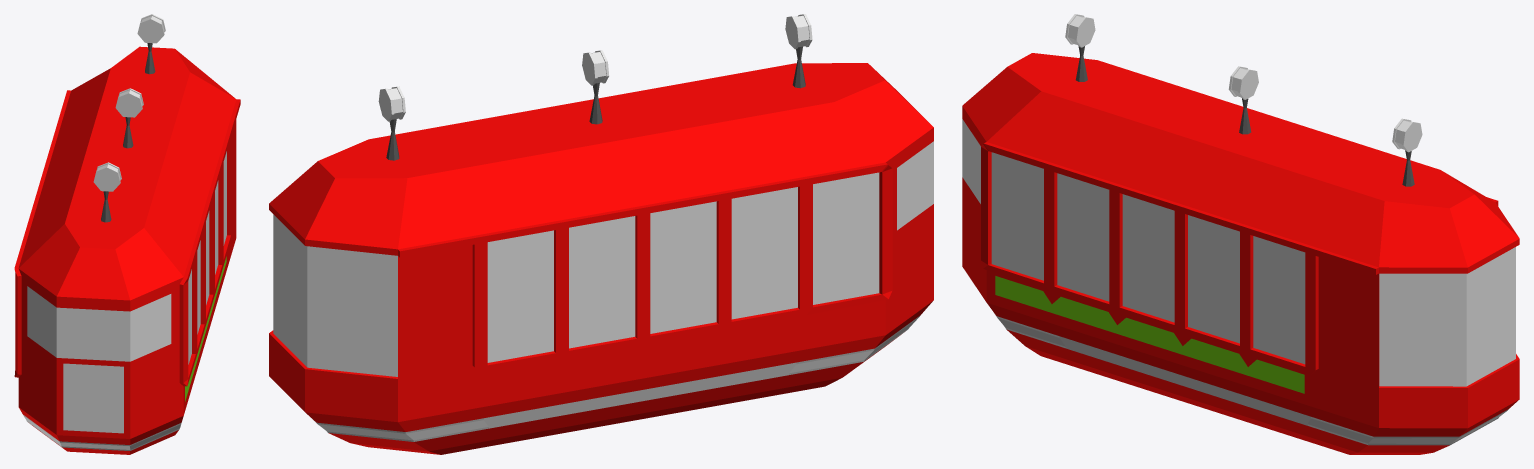
Rendered from SkyTtain.fbx.
3 views of the same model, side by side, from view 1: azimuth 30°, elevation 25°; view 2: azimuth 150°, elevation 25°; view 3: azimuth 270°, elevation 25° (orthographic). The views are drawn at different scales.
Parts seen in each view (by area): view 1: Cylinder.005, Cylinder.003, Cylinder.004; view 2: Cylinder.005, Cylinder.003, Cylinder.004; view 3: Cylinder.005, Cylinder.003, Cylinder.004.
Part boxes in pixels (<box>): Cylinder.005: <box>14,46,240,454</box>; Cylinder.003: <box>93,14,165,191</box>; Cylinder.004: <box>101,43,155,222</box>; Cylinder.005: <box>269,63,933,454</box>; Cylinder.003: <box>378,14,812,121</box>; Cylinder.004: <box>386,46,805,160</box>; Cylinder.005: <box>962,53,1519,454</box>; Cylinder.003: <box>1065,14,1422,152</box>; Cylinder.004: <box>1075,45,1414,186</box>.
Size of the model in its own units: 899 by 678 by 1092.
